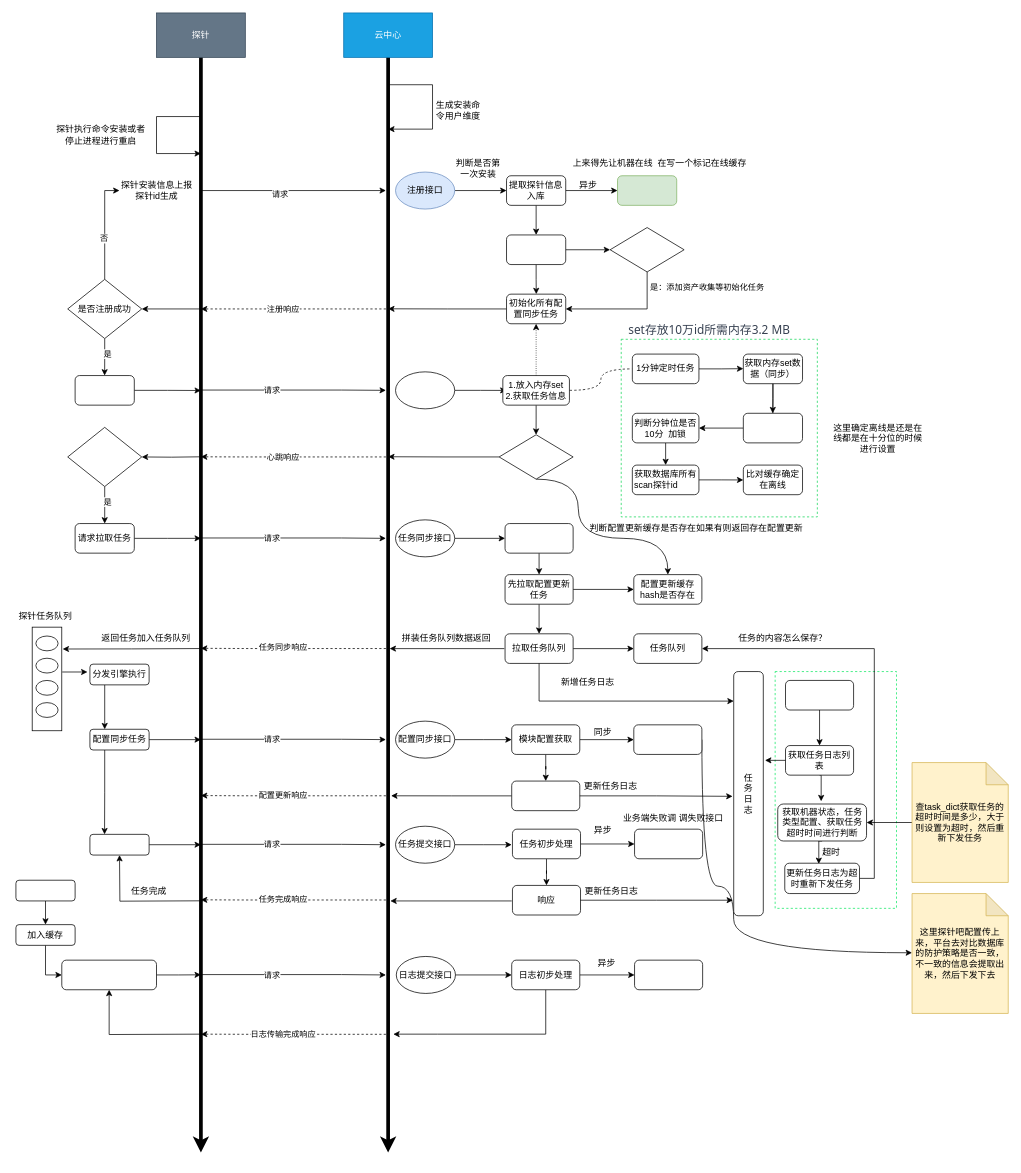
Some shapes in this 1021 by 1173 pixel diagram are drawn without their labels. The shapes that lost their labels are listed below. From the top down, each one's centre as x and y in pixels, then its label:
At point (647, 190): "通知业务端 探针安装".
At point (536, 249): "初始化任务队列".
At point (646, 249): "是否第一次安装".
At point (104, 390): "开启心跳".
At point (425, 390): "心跳接口".
At point (773, 428): "批量更新缓存时间 批量更新".
At point (104, 457): "是否存在任务更新".
At point (535, 456): "是否存在任务".
At point (538, 538): "通过探针id拉取任务hash".
At point (819, 695): "三分钟定时任务".
At point (667, 739): "业务端 判断配置版本".
At point (545, 795): "组装配置返回".
At point (119, 844): "其他任务".
At point (668, 843): "业务端".
At point (45, 890): "产生告警日志".
At point (109, 974): "X时间或者X条进行推送".
At point (668, 974): "KAFKA".
